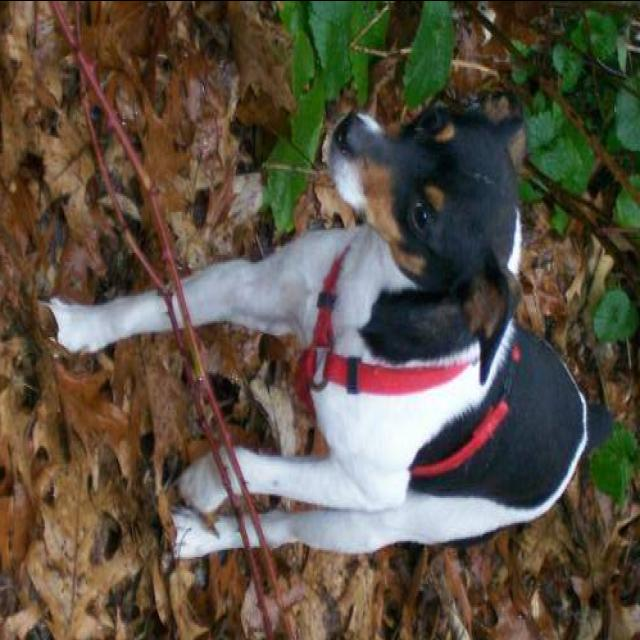dog: (43, 78, 621, 580)
